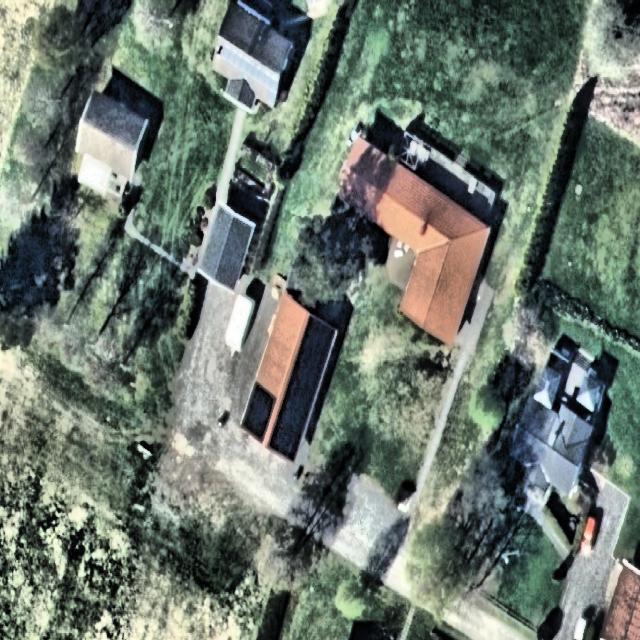roof_pv: (267, 411, 312, 468), (280, 362, 330, 409), (242, 379, 276, 445), (298, 311, 340, 362)
